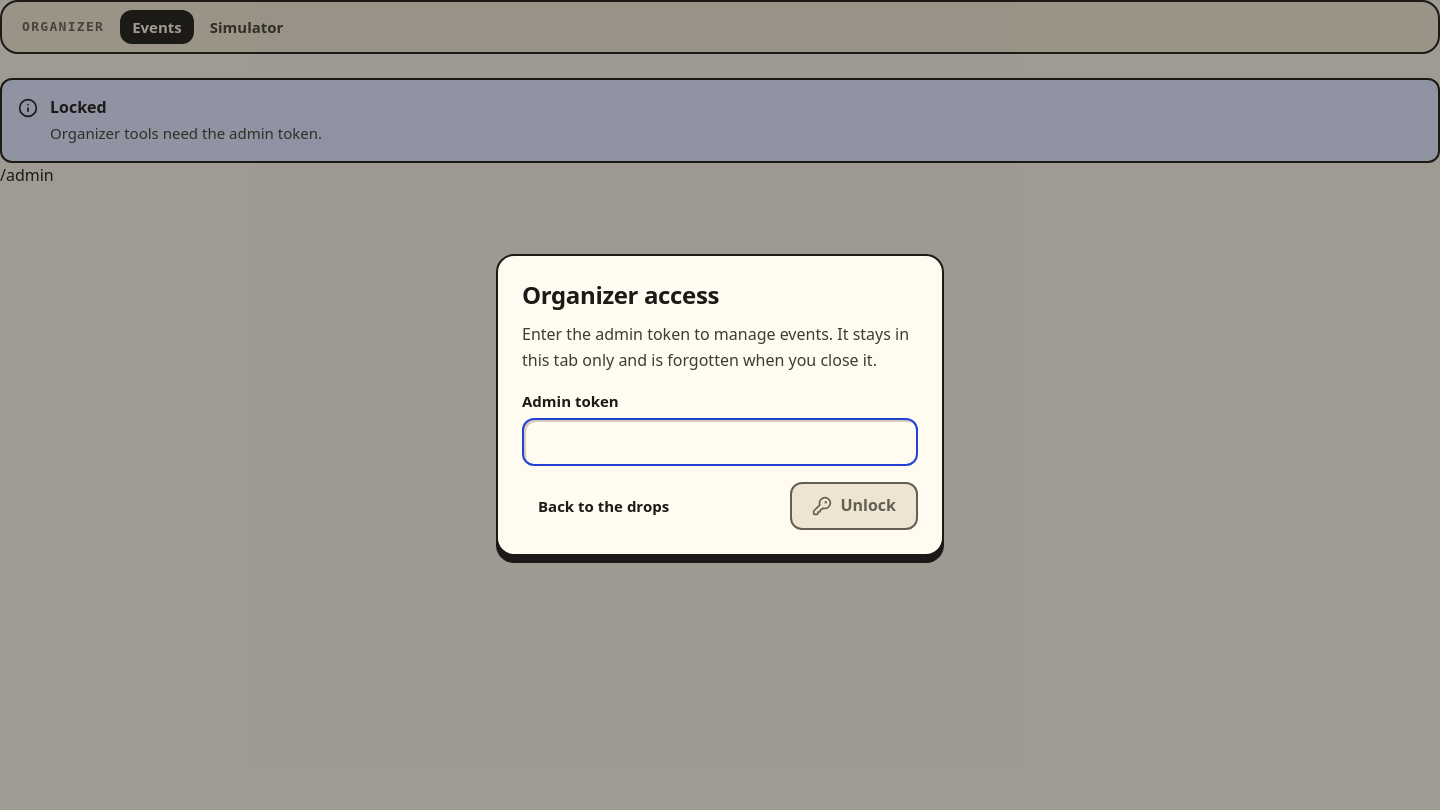
Test case: unlock gate › asks for the token in a modal and loads nothing until it is verified
The image size is (1440, 810).
expect the dialog "Organizer access" is shown: met, box left=496, top=254, right=944, bottom=556
Type "wrong" into the password field labelled "Admin token" at x=720, y=442, box left=522, top=418, right=918, bottom=466
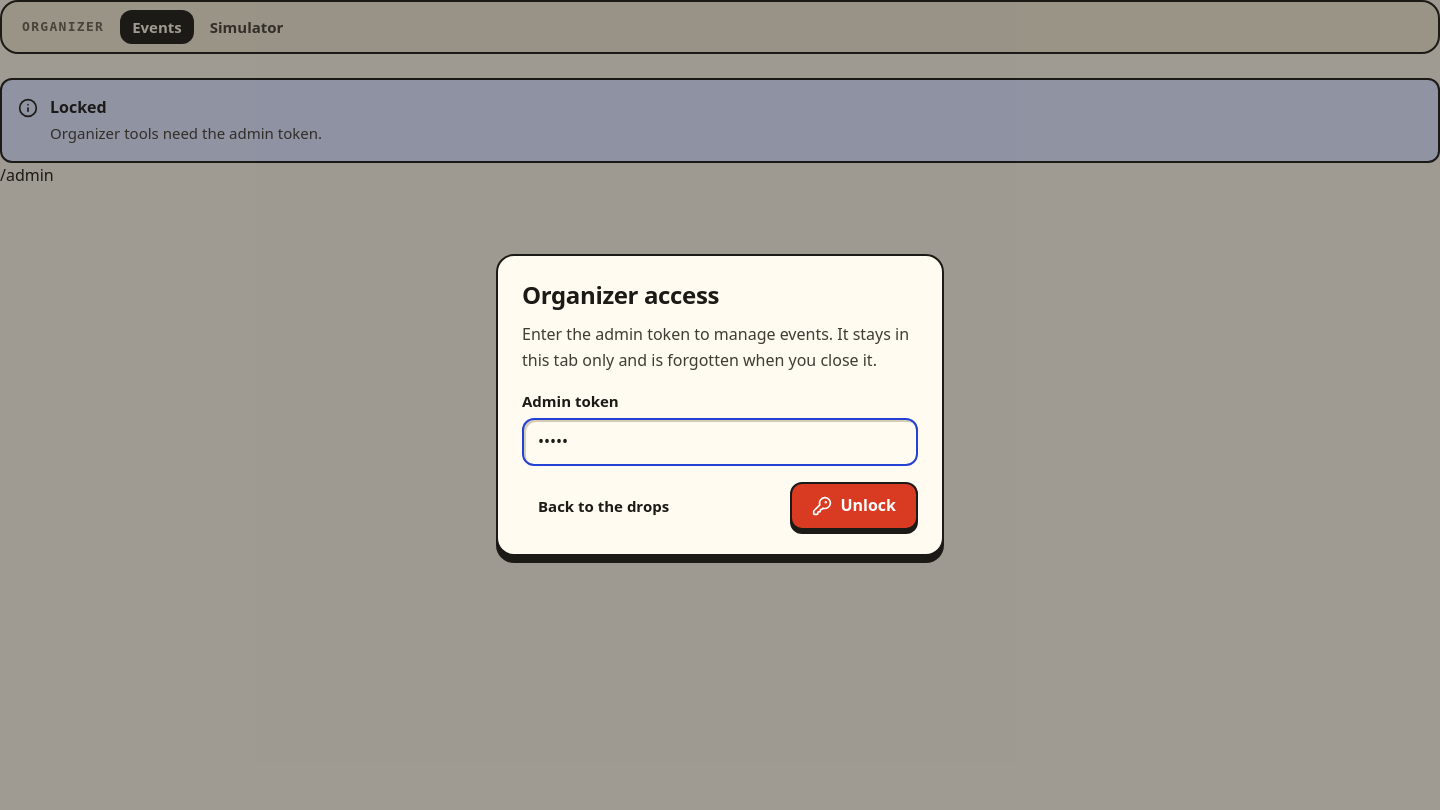
Click the button "Unlock" at x=854, y=506, box left=790, top=482, right=918, bottom=530
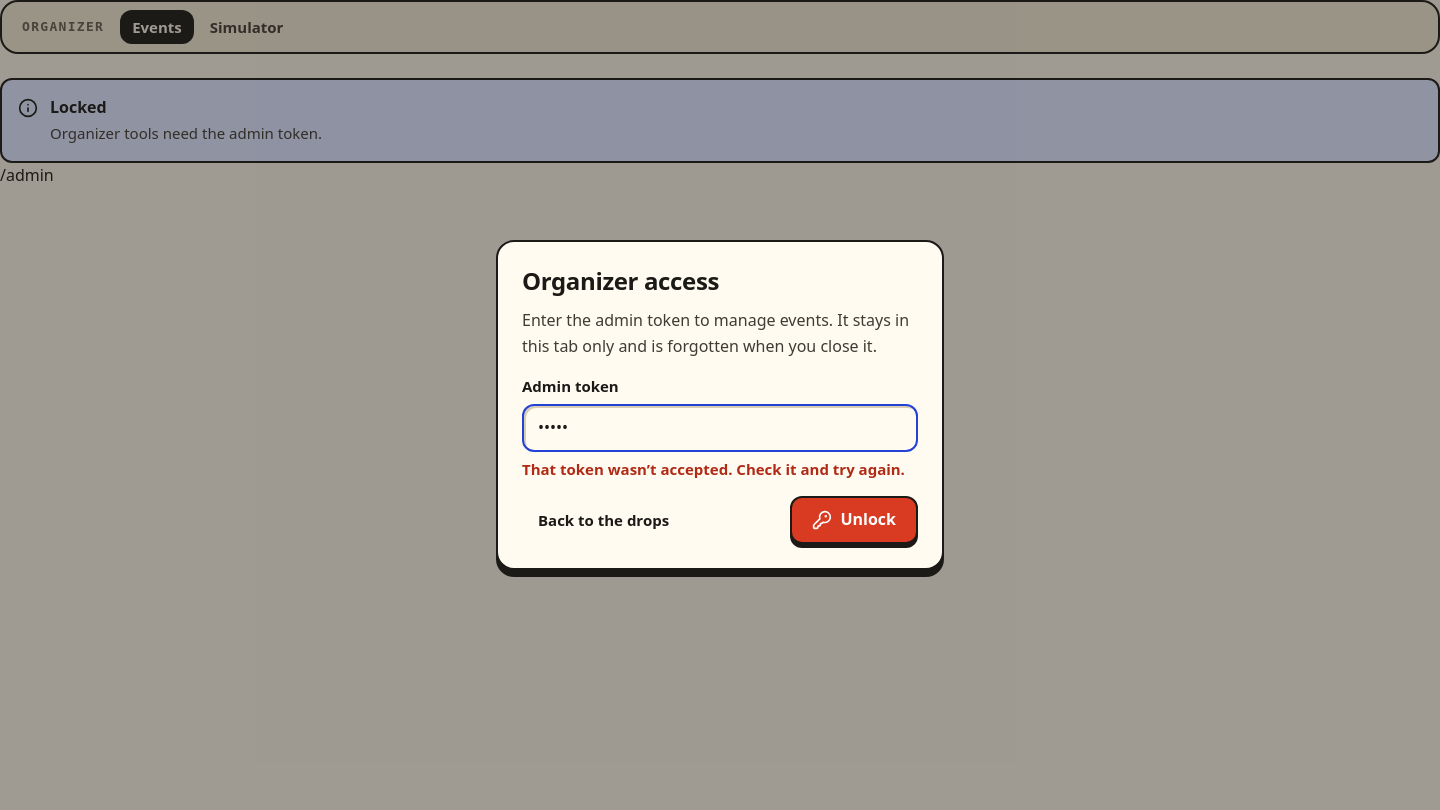
expect the text "That token wasn’t accepted. Check it and try again." is shown: met, box left=522, top=458, right=918, bottom=480
Type "dev-admin-token" into the password field labelled "Admin token" at x=720, y=428, box left=522, top=404, right=918, bottom=452
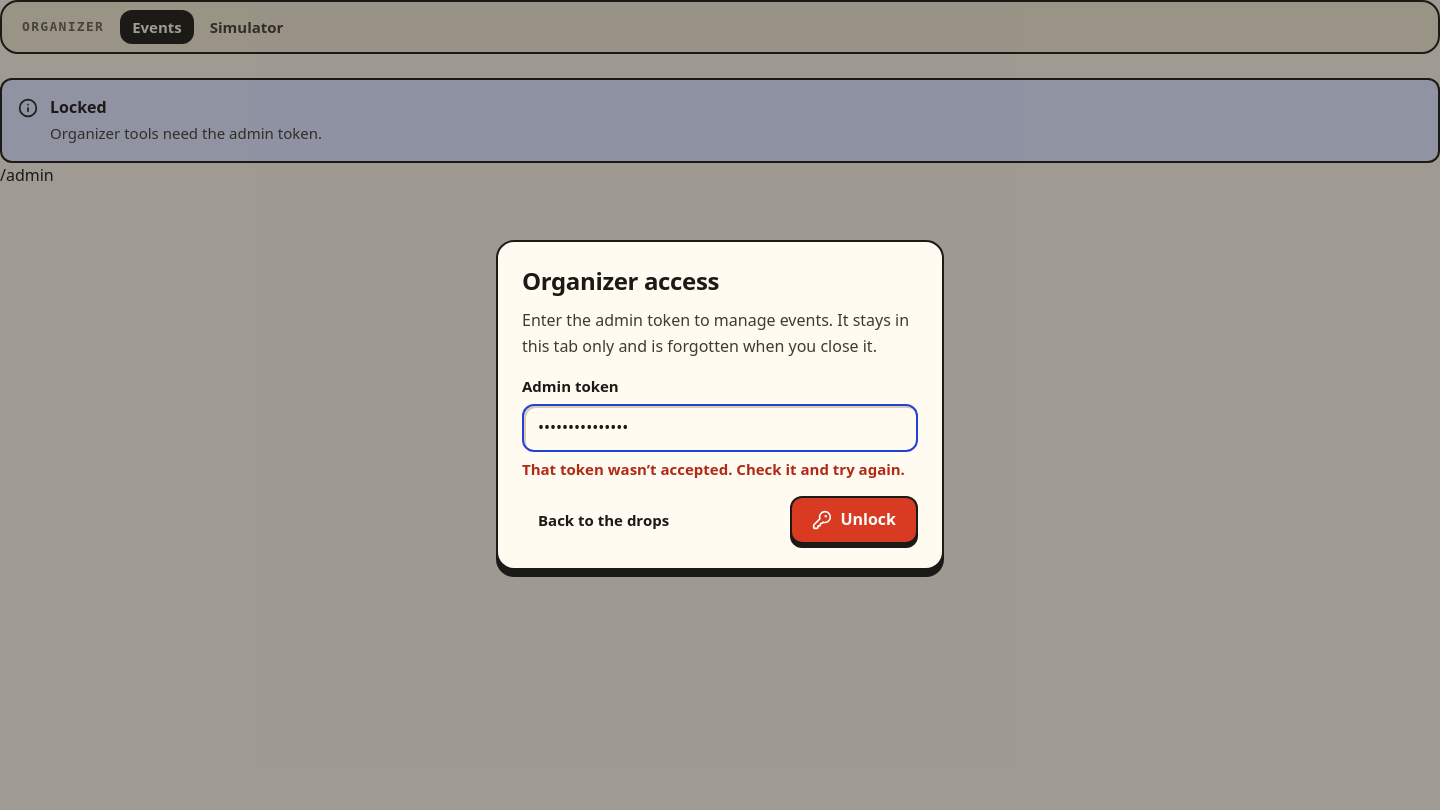
Click the button "Unlock" at x=854, y=520, box left=790, top=496, right=918, bottom=544
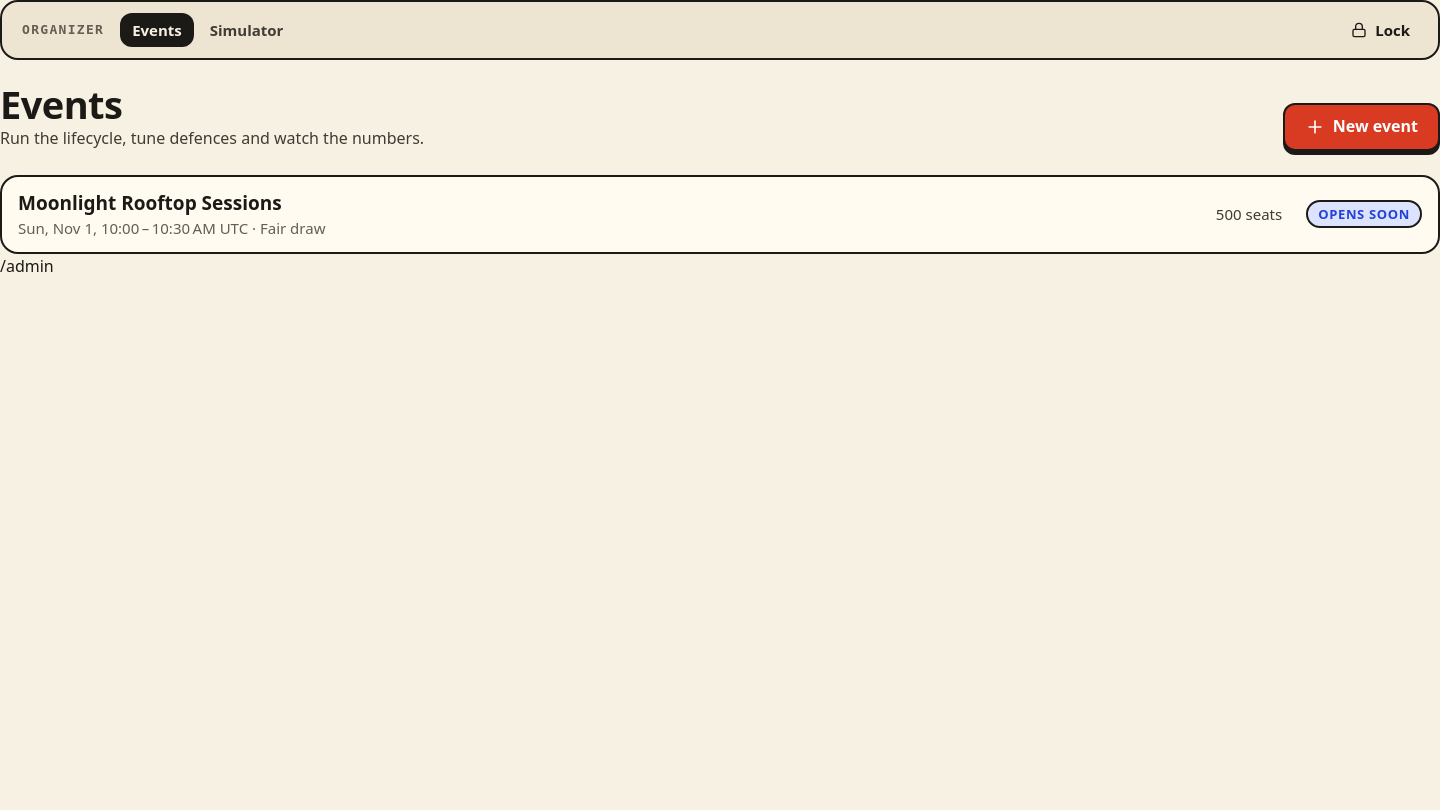
expect the heading "Events" is shown: met, box left=0, top=78, right=122, bottom=130
expect the text "Moonlight Rooftop Sessions" is shown: met, box left=18, top=190, right=282, bottom=216
